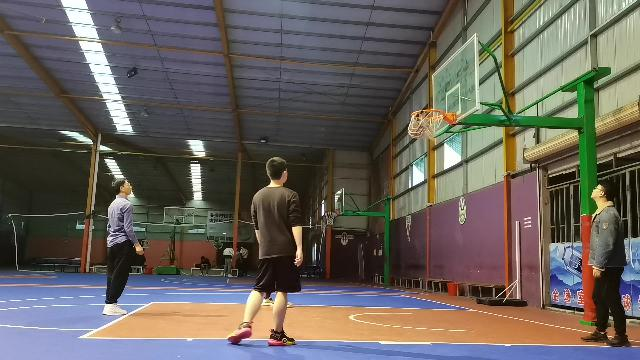basket: (411, 109, 445, 141), (324, 209, 336, 224)
goal: (408, 120, 424, 138)
